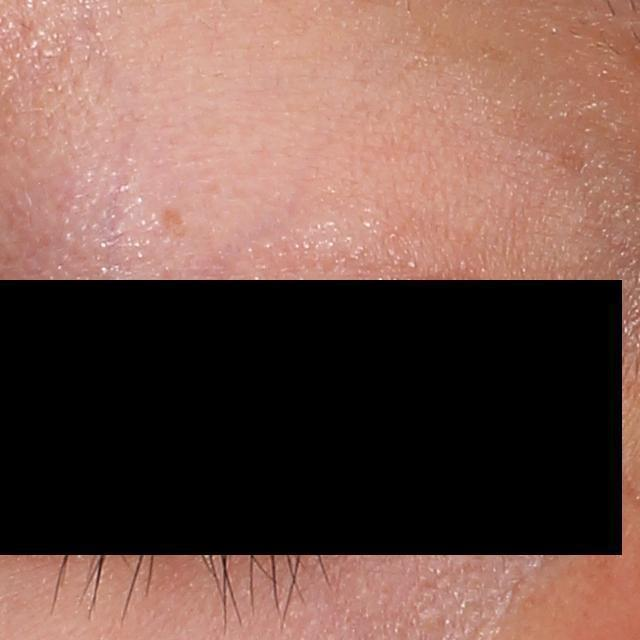melasma: (161, 203, 186, 235)
